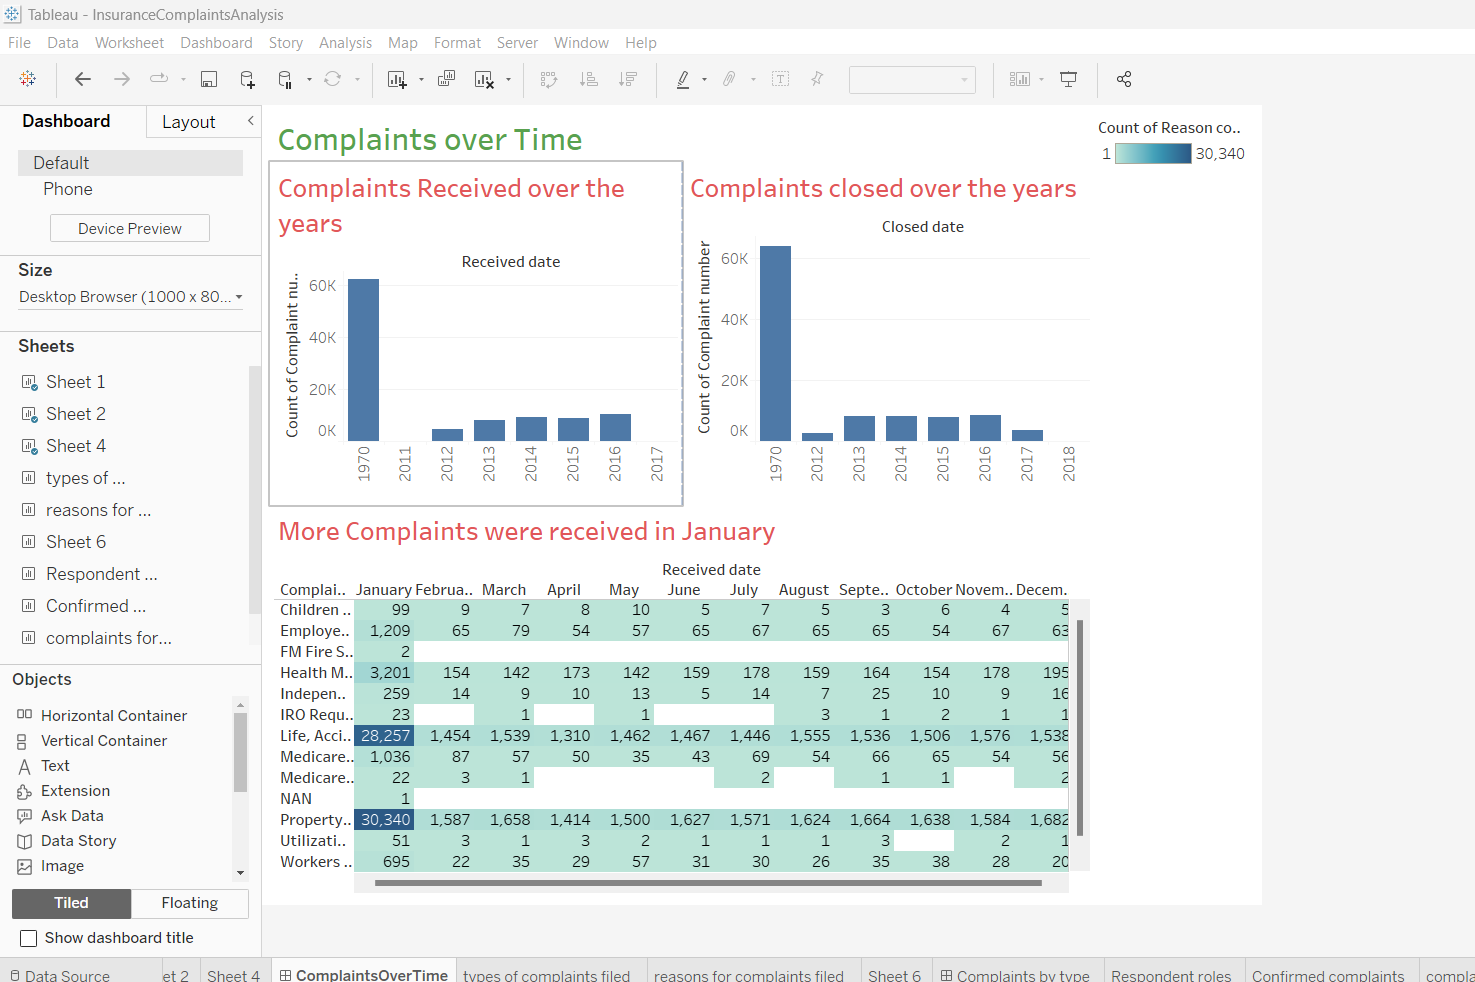

This screenshot's page, from the dashboard's own definition file:
{"tool":"tableau","page":{"name":"ComplaintsOverTime","canvas":[1000,800],"ordinal":1},"visuals":[{"type":"title","box":[8,8,824,49]},{"type":"legend","title":"Sheet 4","param":"[federated.0un4jei15bbcvl1elf4x41mn3vh6].[cnt:Reason complaint filed:qk]","box":[832,8,160,73]},{"type":"worksheet","title":"Sheet 1","mark":"Bar","rows":["Complaint number"],"cols":["Received date"],"box":[8,57,412,343]},{"type":"worksheet","title":"Sheet 2","mark":"Bar","rows":["Complaint number"],"cols":["Closed date"],"box":[420,57,412,343]},{"type":"worksheet","title":"Sheet 4","mark":"Square","rows":["Complaint type"],"cols":["Received date"],"box":[8,400,824,392]}]}

Visuals, with their boxes on the page's 1000x800 design canvas (x1, y1, x2, y2). These are canvas units, not pixel positions in the 1475x982 screenshot, which may show the page scaled, cropped or inside an application window:
title: region(8, 8, 832, 57)
"Sheet 4" legend: region(832, 8, 992, 81)
"Sheet 1" worksheet (Bar marks): region(8, 57, 420, 400)
"Sheet 2" worksheet (Bar marks): region(420, 57, 832, 400)
"Sheet 4" worksheet (Square marks): region(8, 400, 832, 792)
